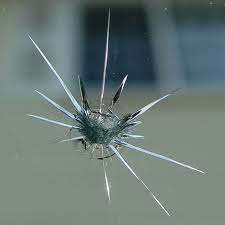bullseye: (16, 10, 209, 214)
